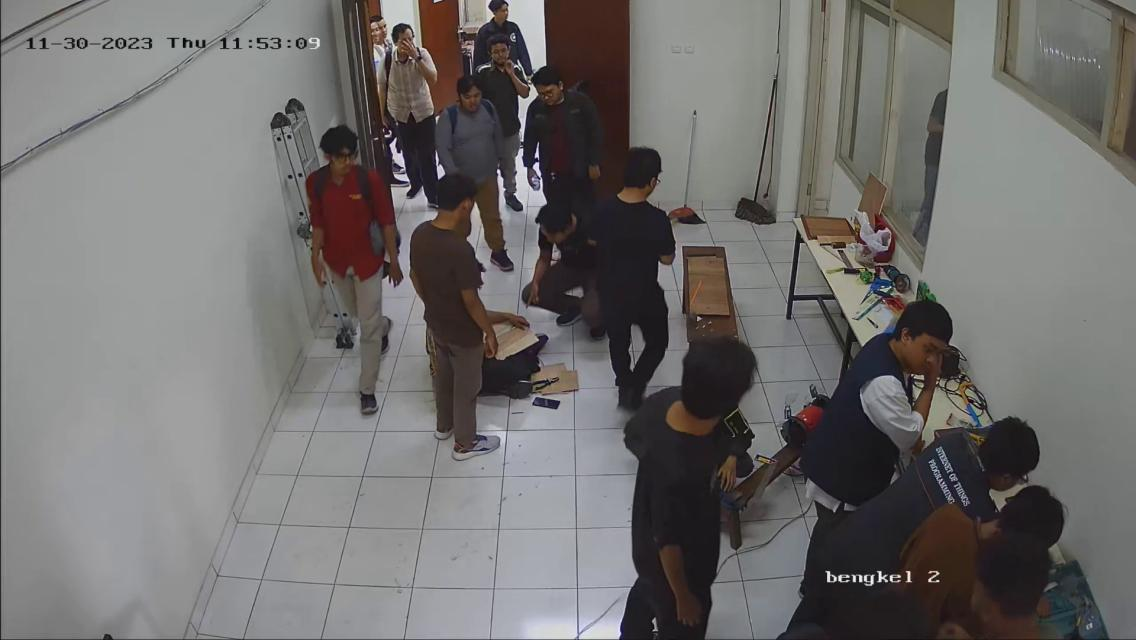Crowd: (275, 11, 721, 483)
